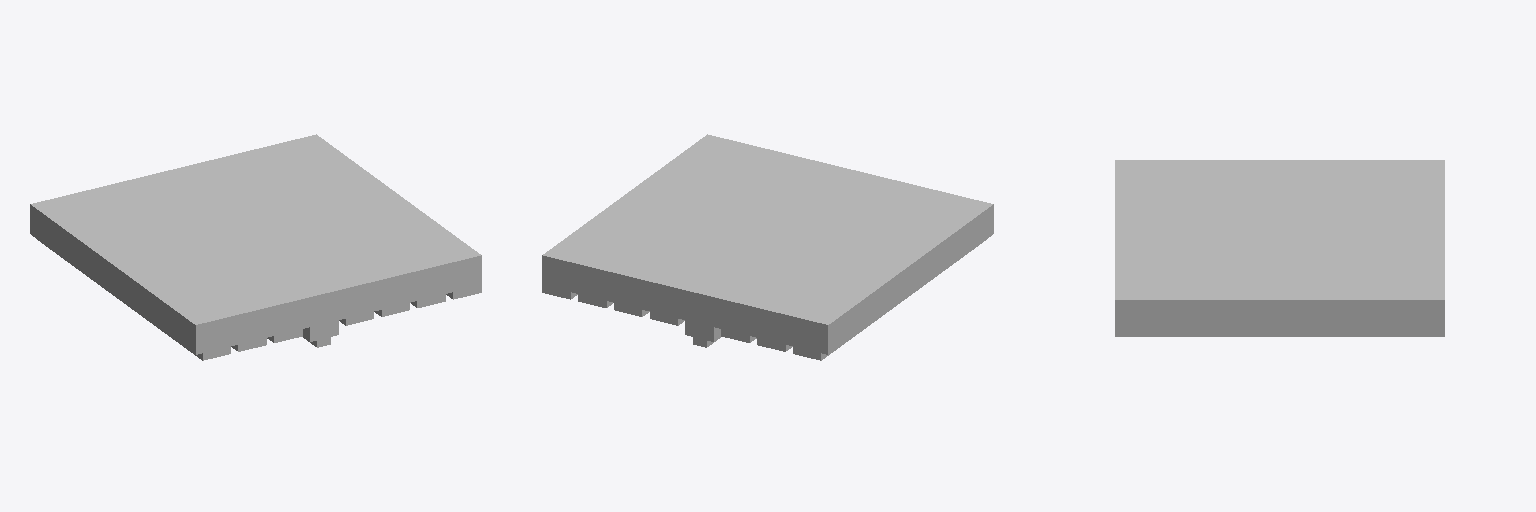
Rendered from ceiling with wires.obj.
3 views of the same model, side by side, from view 1: azimuth 30°, elevation 25°; view 2: azimuth 150°, elevation 25°; view 3: azimuth 270°, elevation 25° (orthographic).
Visible parts, largest first — view 1: object 1; view 2: object 1; view 3: object 1.
Part boxes in pixels (bbox=[...]): object 1: bbox=[30, 134, 481, 360]; object 1: bbox=[542, 134, 993, 360]; object 1: bbox=[1115, 160, 1444, 336].
Bounding box in the file's own units: 4 × 0.7 × 4.